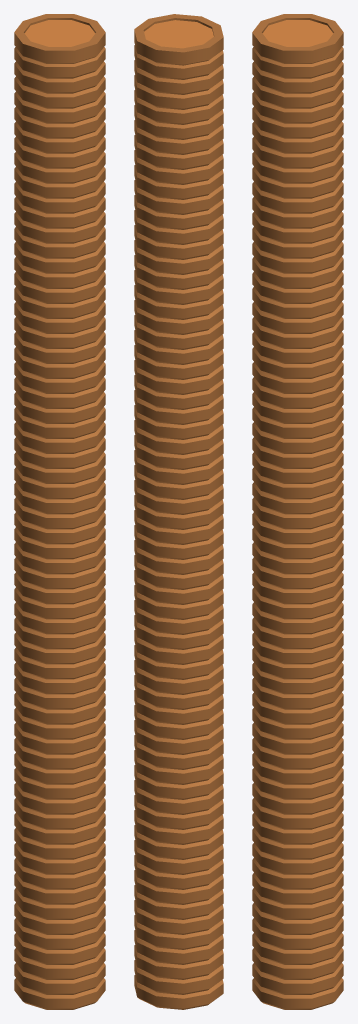
Rendered from Coin_Tower_17.fbx.
The picture shows the model from 3 angles, left to right: view 1: azimuth 90°, elevation 25°; view 2: azimuth 150°, elevation 25°; view 3: azimuth 270°, elevation 25°; orthographic projection.
Visible parts, largest first — view 1: Coin_Tower_17; view 2: Coin_Tower_17; view 3: Coin_Tower_17.
Boxes of the visible parts, x1,y1,x2,y2 form: Coin_Tower_17: (14,14,105,1009); Coin_Tower_17: (134,14,223,1009); Coin_Tower_17: (252,14,343,1009).
Size of the model in its own units: 0.0413 by 0.5025 by 0.0435.
